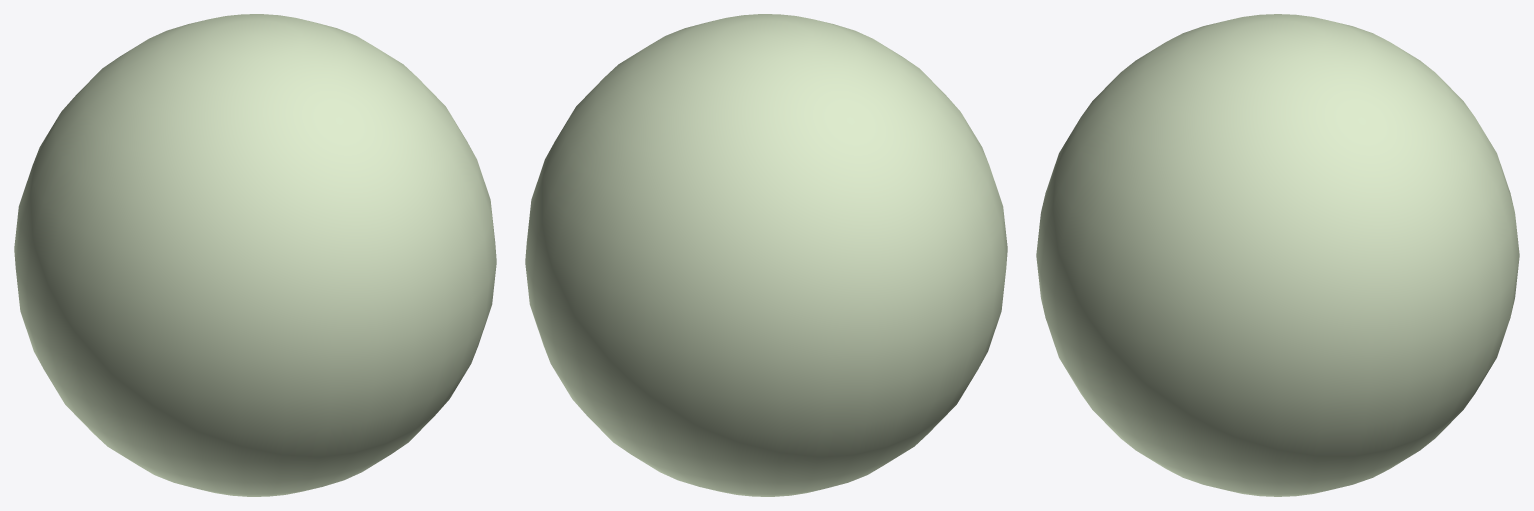
The model's file is frogegg.fbx.
3 renders of one model, left to right at view 1: azimuth 30°, elevation 25°; view 2: azimuth 150°, elevation 25°; view 3: azimuth 270°, elevation 25°, orthographic.
Visible parts, largest first — view 1: Sphere; view 2: Sphere; view 3: Sphere.
Boxes of the visible parts, left/top/right/bottom form: Sphere: left=14, top=14, right=496, bottom=496; Sphere: left=525, top=14, right=1007, bottom=496; Sphere: left=1036, top=14, right=1519, bottom=496.
Bounding box in the file's own units: 200 × 200 × 200.
